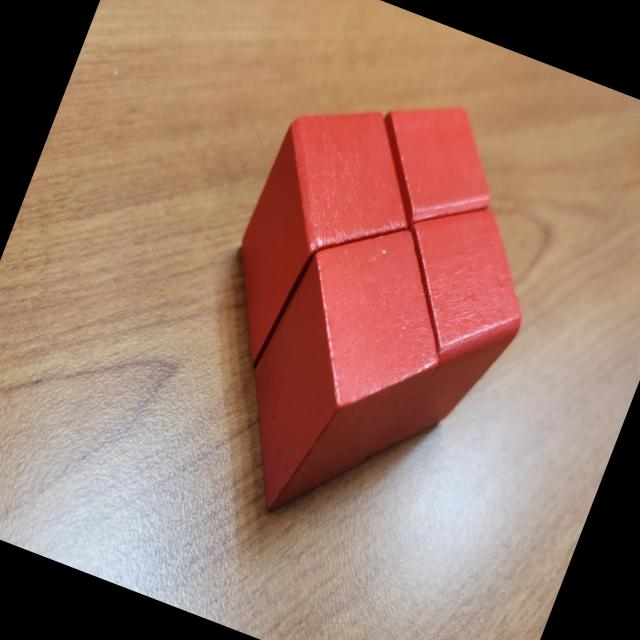red: (208, 195, 481, 552), (202, 82, 445, 399), (326, 186, 554, 493), (350, 82, 520, 256)
